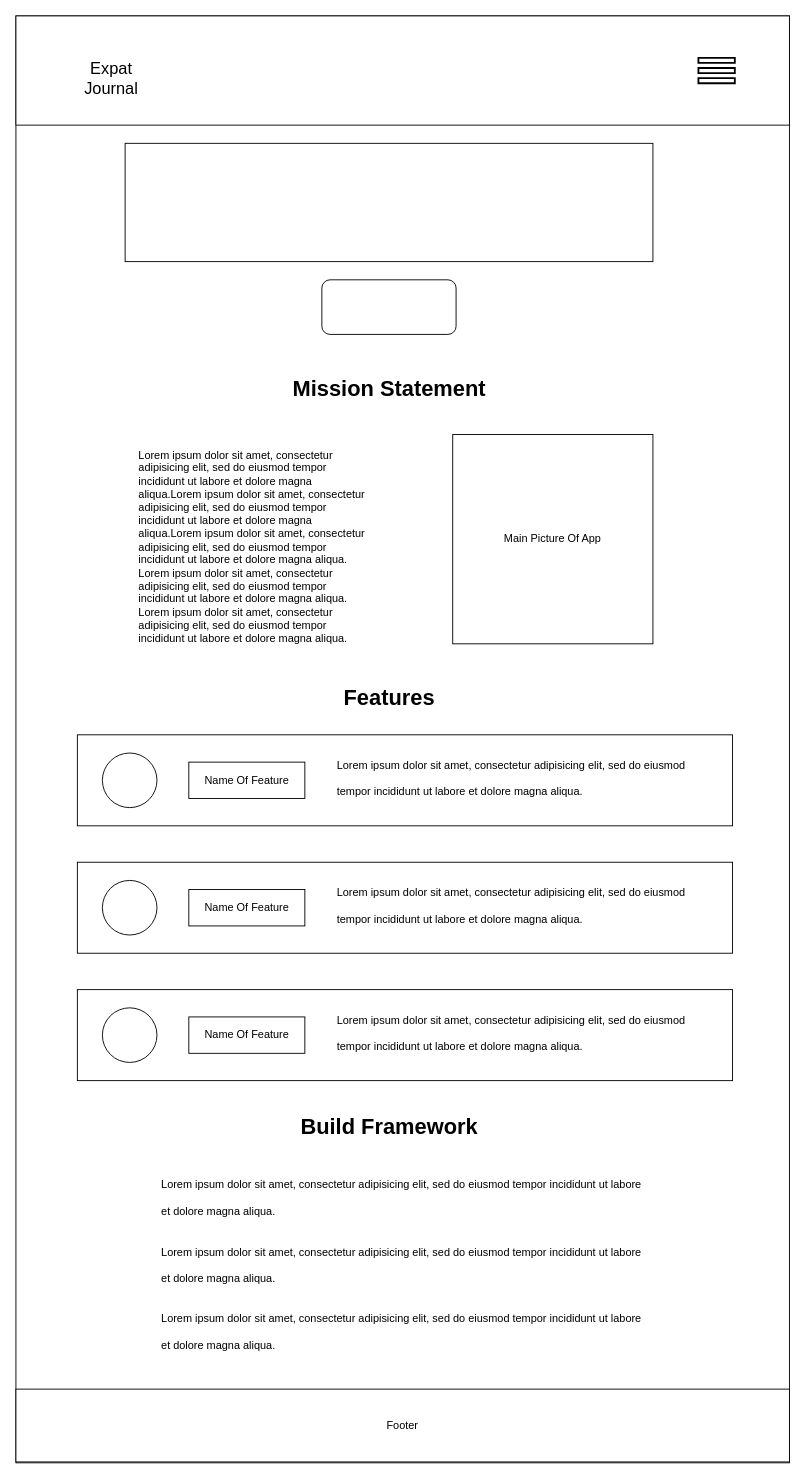
Image size: 805x1479. Some labels were removed from this diagram. The shapes that lost their labels are listed below. From the top down, each one's centre as x and y in pixels, then its label:
At (388,202): "Catchy Intro Phrase".
At (388,306): "Button To App".
